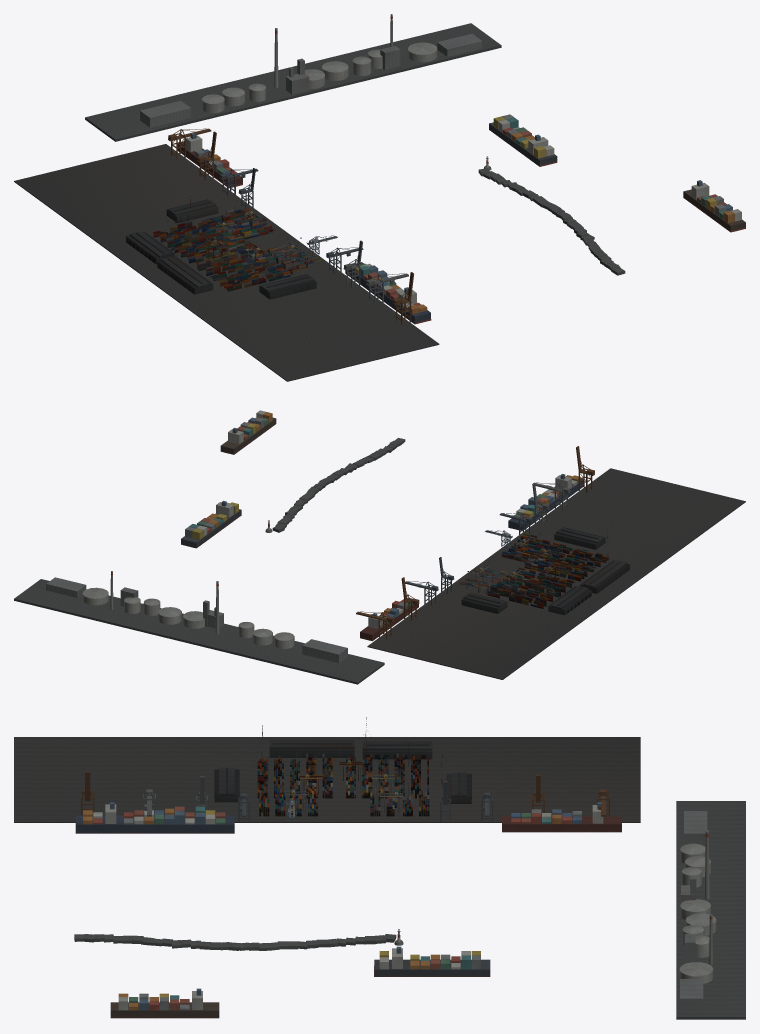
The model's file is skyline.glb.
3 views of the same model, one above another, from view 1: azimuth 30°, elevation 25°; view 2: azimuth 150°, elevation 25°; view 3: azimuth 270°, elevation 25° (orthographic). The views are drawn at different scales.
Parts seen in each view (by area): view 1: skyline; view 2: skyline; view 3: skyline.
Part boxes in pixels (x1,y1,x2,y2): skyline: [14, 14, 745, 381]; skyline: [14, 410, 745, 684]; skyline: [14, 717, 745, 1019].
Bounding box in the file's own units: 860 × 99.8 × 945.
1 material, 1 textured.
